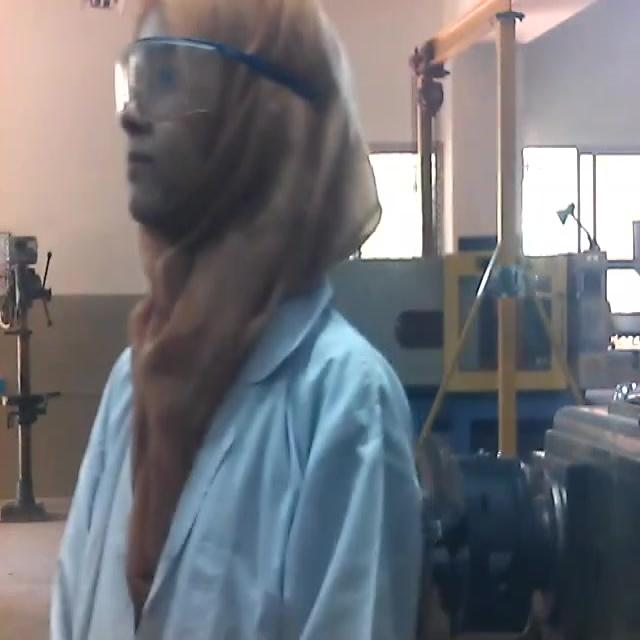googles: (110, 38, 240, 118)
labcoat: (55, 293, 426, 640)
